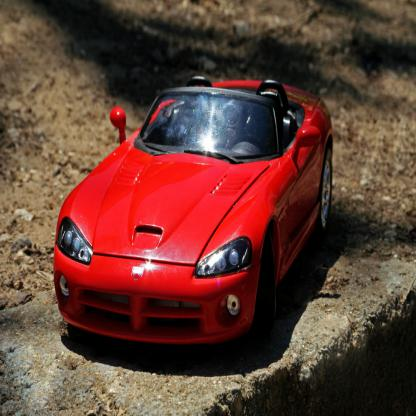Car: (53, 76, 333, 343)
